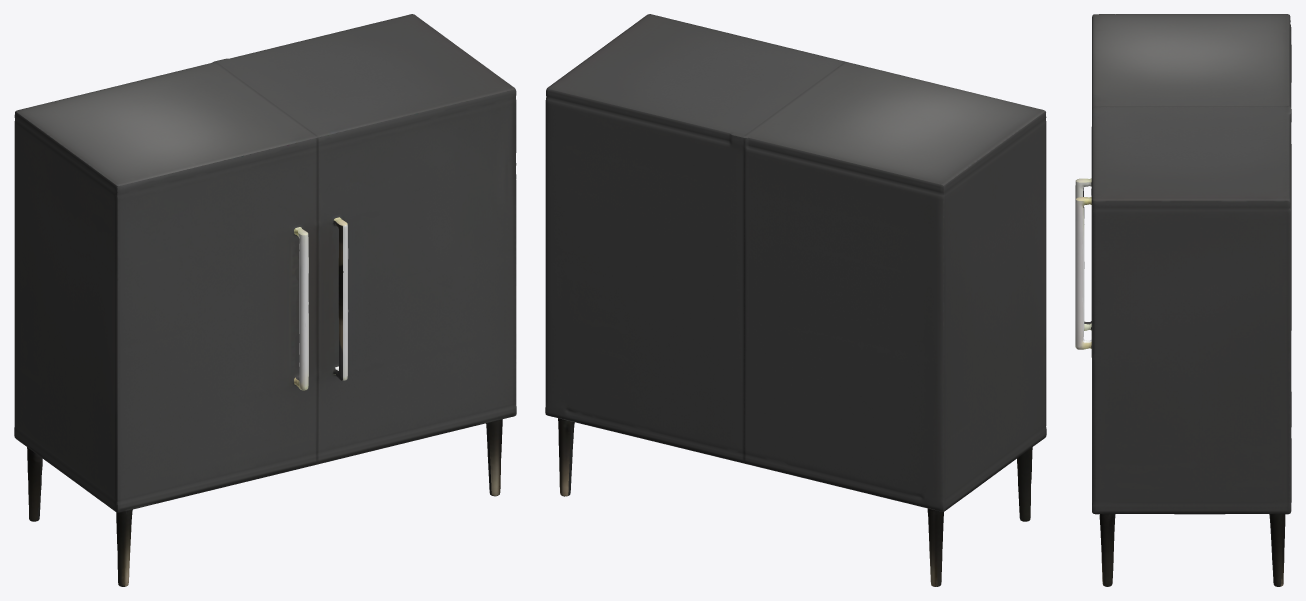
The model's file is cabinet__cabinet#3.glb.
3 views of the same model, side by side, from view 1: azimuth 30°, elevation 25°; view 2: azimuth 150°, elevation 25°; view 3: azimuth 270°, elevation 25° (orthographic). The views are drawn at different scales.
Visible parts, largest first — view 1: tmpaqyos8ap.ply; view 2: tmpaqyos8ap.ply; view 3: tmpaqyos8ap.ply.
Part boxes in pixels (box(x1,y1,x2,y2)): tmpaqyos8ap.ply: box(14, 14, 516, 586); tmpaqyos8ap.ply: box(545, 14, 1046, 586); tmpaqyos8ap.ply: box(1075, 14, 1291, 586).
Size of the model in its own units: 1.99 by 1.94 by 0.972.
Materials: 1 (1 with a texture image).
